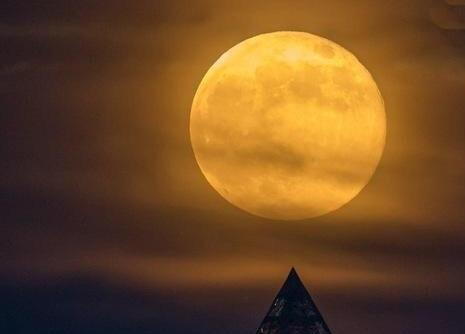moon: (189, 30, 385, 222)
